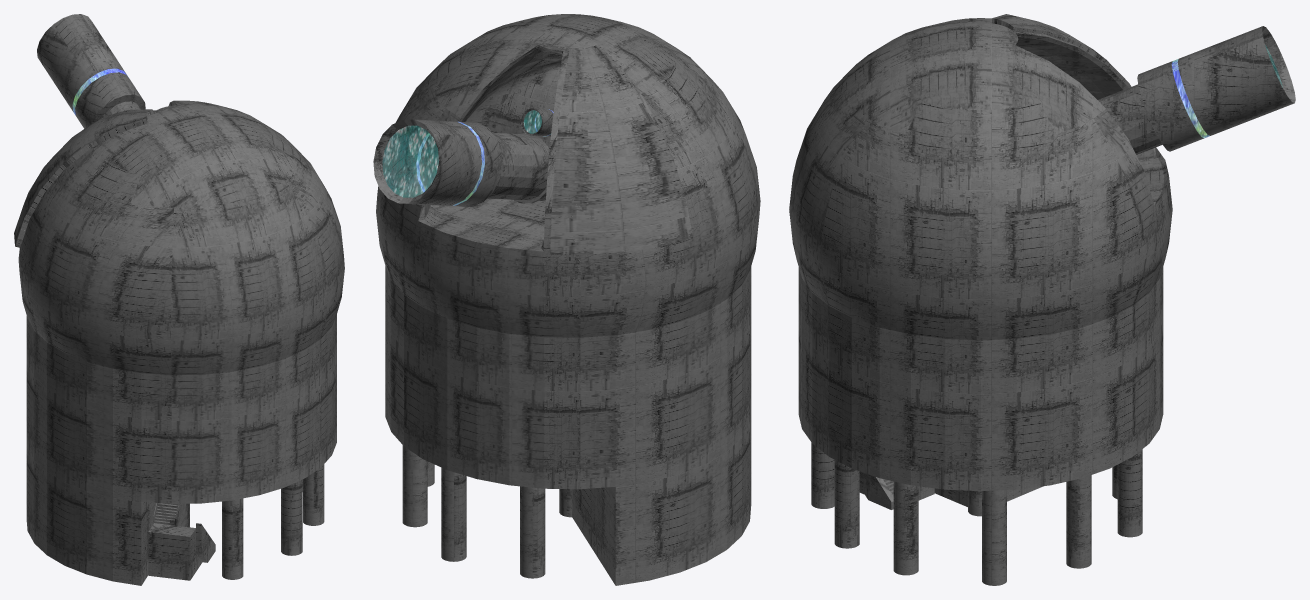
Rendered from observatory.glb.
The picture shows the model from 3 angles, left to right: view 1: azimuth 30°, elevation 25°; view 2: azimuth 150°, elevation 25°; view 3: azimuth 270°, elevation 25°; orthographic projection. The views are drawn at different scales.
Parts seen in each view (by area): view 1: MaterialFBXASC032FBXASC03511231 (×2); view 2: MaterialFBXASC032FBXASC03511231 (×2), SG-Window, ORDNUNGSKRAFTFBXASC032Graviton; view 3: MaterialFBXASC032FBXASC03511231 (×2).
Boxes of the visible parts, x1=… form: MaterialFBXASC032FBXASC03511231 (×2): x1=14, y1=14, x2=344, y2=585; MaterialFBXASC032FBXASC03511231 (×2): x1=373, y1=14, x2=760, y2=585; SG-Window: x1=382, y1=110, x2=541, y2=197; ORDNUNGSKRAFTFBXASC032Graviton: x1=416, y1=109, x2=553, y2=205; MaterialFBXASC032FBXASC03511231 (×2): x1=789, y1=14, x2=1295, y2=585.
Size of the model in its own units: 60 by 84.5 by 79.26.
3 materials, 2 textured.
